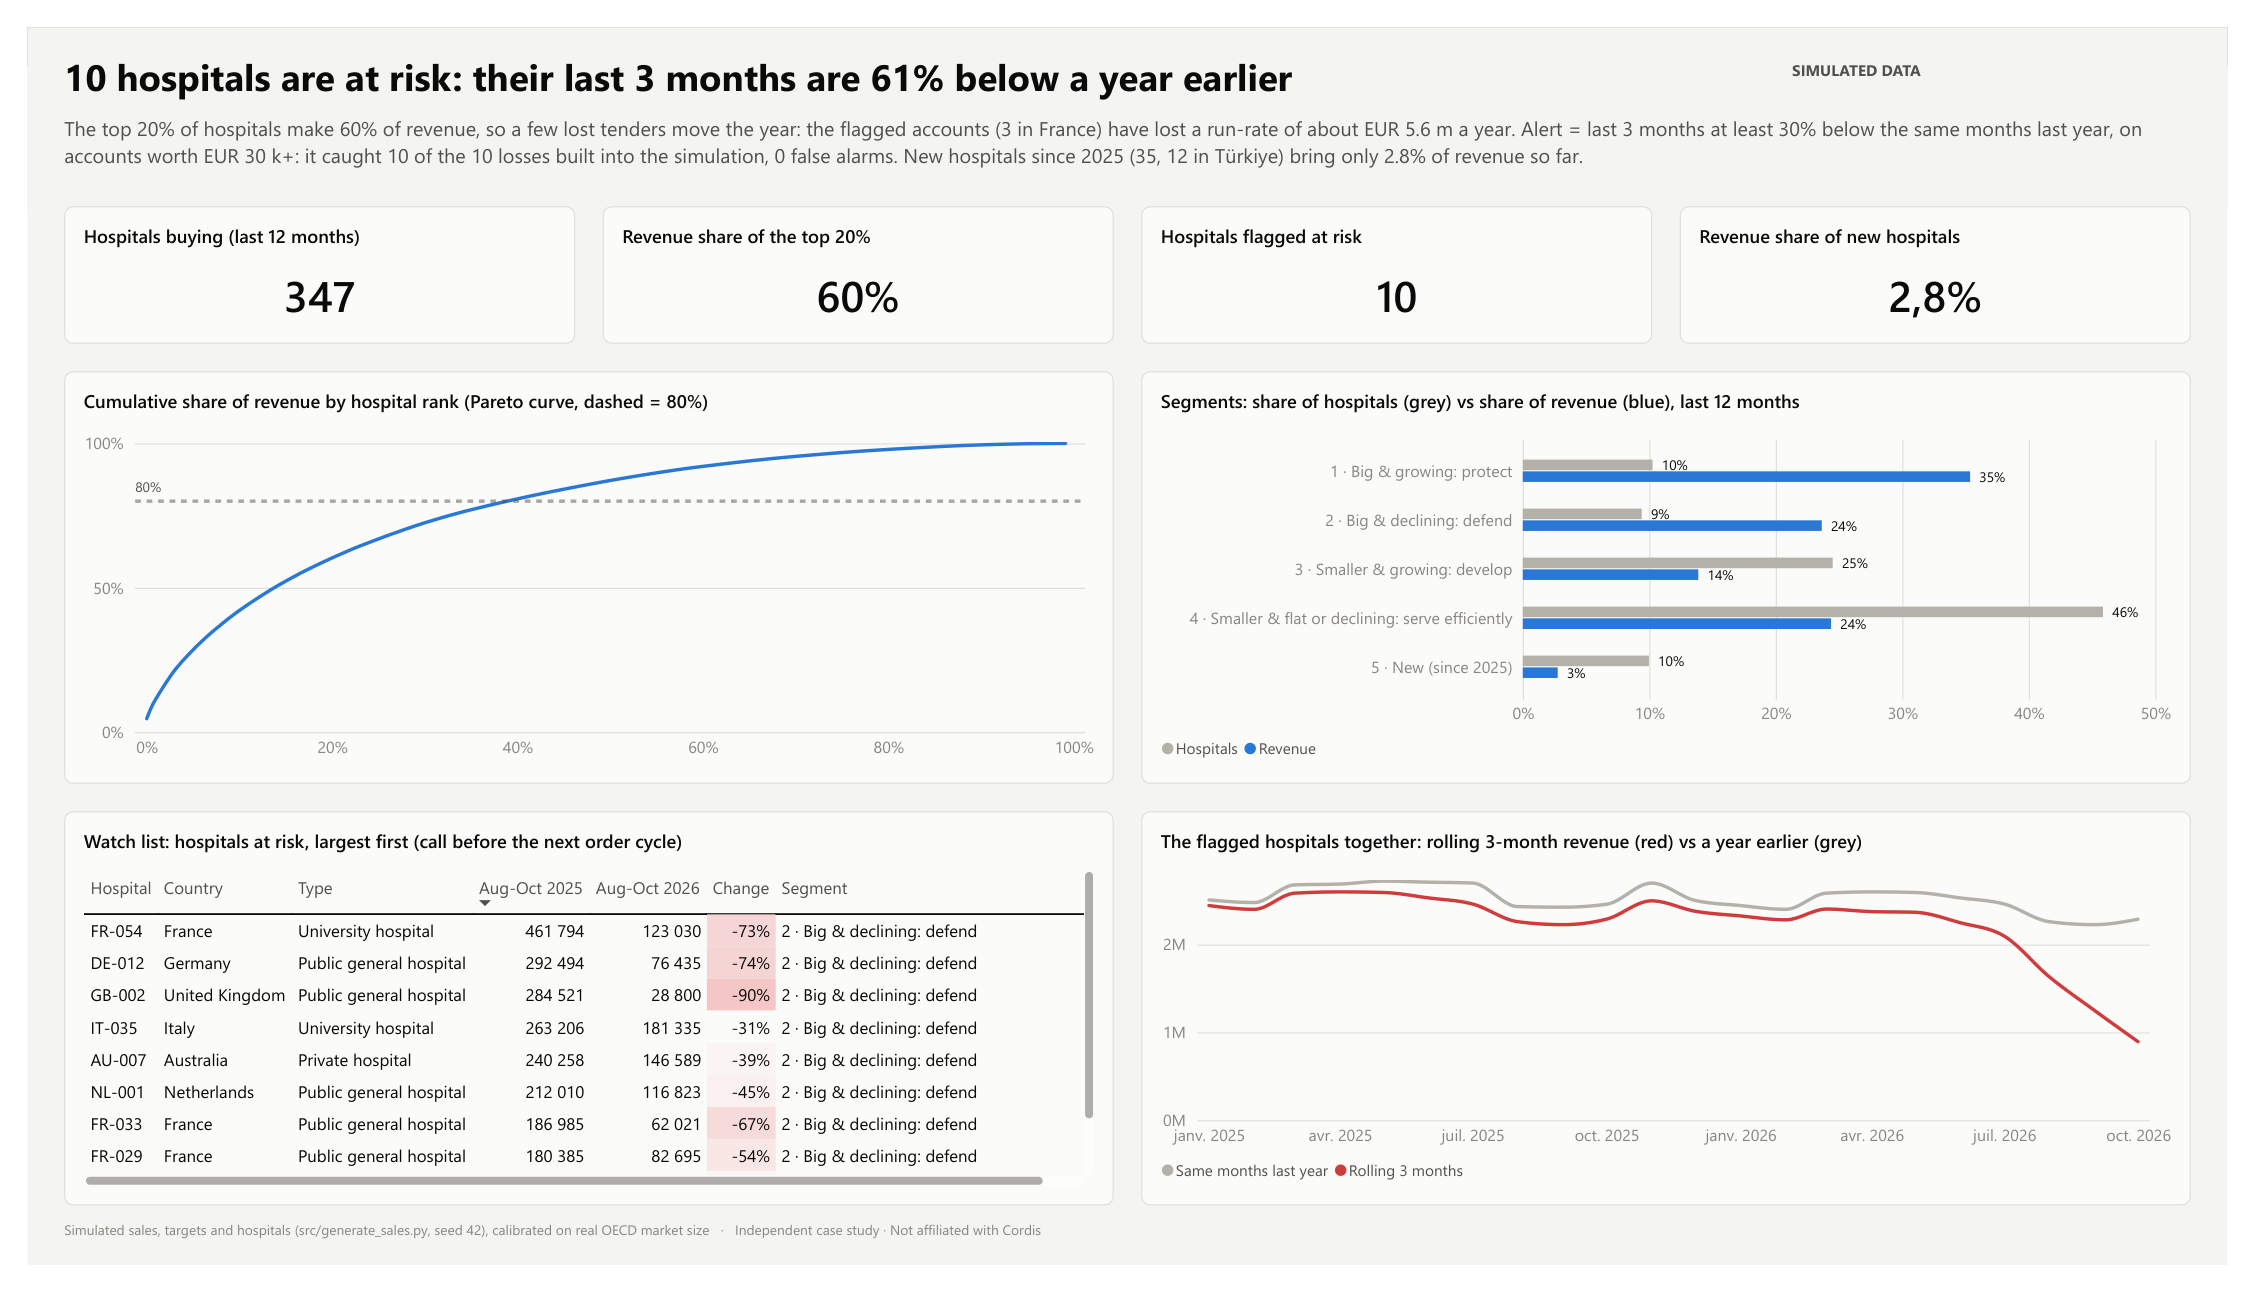

What the dashboard file says about the page in this screenshot:
{"tool":"powerbi","page":{"name":"3 · Customers","canvas":[1920,1080],"ordinal":3},"visuals":[{"type":"textbox","box":[32,20,1500,56],"z":1000},{"type":"textbox","box":[1540,28,348,40],"z":2000},{"type":"textbox","box":[32,76,1856,64],"z":3000},{"type":"card","title":"Hospitals buying (last 12 months)","fields":{"Values":["_Measures.Active Accounts"]},"box":[32,156,446,120],"z":4000},{"type":"card","title":"Revenue share of the top 20%","fields":{"Values":["_Measures.Top 20% Accounts Revenue Share"]},"box":[502,156,446,120],"z":5000},{"type":"card","title":"Hospitals flagged at risk","fields":{"Values":["_Measures.At-risk Accounts"]},"box":[972,156,446,120],"z":6000},{"type":"card","title":"Revenue share of new hospitals","fields":{"Values":["_Measures.New Accounts Revenue Share"]},"box":[1442,156,446,120],"z":7000},{"type":"lineChart","title":"Cumulative share of revenue by hospital rank (Pareto curve, dashed = 80%)","fields":{"Category":["Account.size_percentile"],"Y":["_Measures.Cumulative Revenue Share"]},"box":[32,300,916,360],"z":8000},{"type":"clusteredBarChart","title":"Segments: share of hospitals (grey) vs share of revenue (blue), last 12 months","fields":{"Category":["Account Segments.segment"],"Y":["_Measures.Segment Account Share","_Measures.Segment Revenue Share"]},"box":[972,300,916,360],"z":9000},{"type":"tableEx","title":"Watch list: hospitals at risk, largest first (call before the next order cycle)","fields":{"Values":["Account.account_id","Account.country","Account.account_type","Account.revenue_l3m_ly","Account.revenue_l3m","Account.growth_l3m","Account.segment"]},"box":[32,684,916,344],"z":10000},{"type":"lineChart","title":"The flagged hospitals together: rolling 3-month revenue (red) vs a year earlier (grey)","fields":{"Category":["At-risk Rolling.month"],"Y":["_Measures.At-risk Rolling 3M LY","_Measures.At-risk Rolling 3M"]},"box":[972,684,916,344],"z":11000},{"type":"textbox","box":[32,1040,1856,32],"z":12000}]}

Visuals, with their boxes in screenshot pixels (x1, y1, x2, y2), scaled from the page's 1920x1080 canvas onto the 2255x1293 screenshot:
textbox: crop(38, 24, 1799, 91)
textbox: crop(1809, 34, 2217, 81)
textbox: crop(38, 91, 2217, 168)
"Hospitals buying (last 12 months)" card: crop(38, 187, 561, 330)
"Revenue share of the top 20%" card: crop(590, 187, 1113, 330)
"Hospitals flagged at risk" card: crop(1142, 187, 1665, 330)
"Revenue share of new hospitals" card: crop(1694, 187, 2217, 330)
"Cumulative share of revenue by hospital rank (Pareto curve, dashed = 80%)" lineChart: crop(38, 359, 1113, 790)
"Segments: share of hospitals (grey) vs share of revenue (blue), last 12 months" clusteredBarChart: crop(1142, 359, 2217, 790)
"Watch list: hospitals at risk, largest first (call before the next order cycle)" tableEx: crop(38, 819, 1113, 1231)
"The flagged hospitals together: rolling 3-month revenue (red) vs a year earlier (grey)" lineChart: crop(1142, 819, 2217, 1231)
textbox: crop(38, 1245, 2217, 1283)
